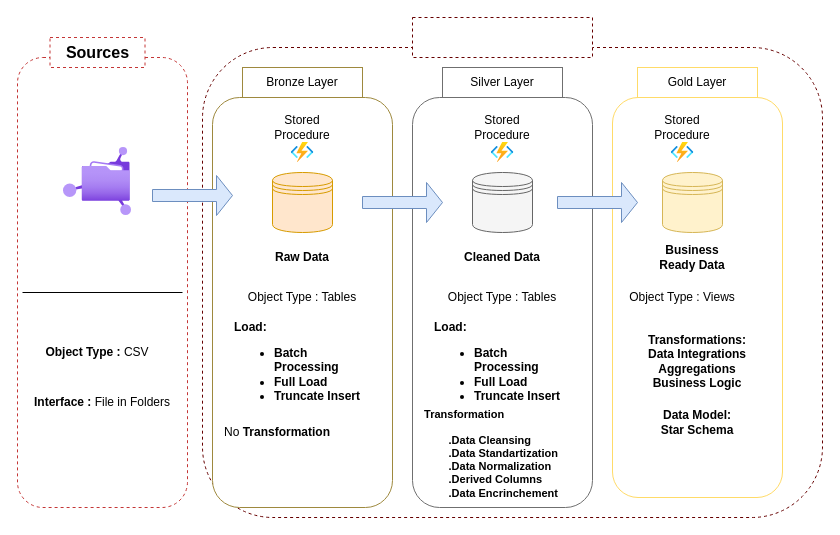
Some shapes in this 840 by 535 pixel diagram are drawn without their labels. Here are the shapes that lost their labels. From the top down, the centre of each, then its label:
(502,37): DATA WAREHOUSE
(97,181): RETAIL DATASET
